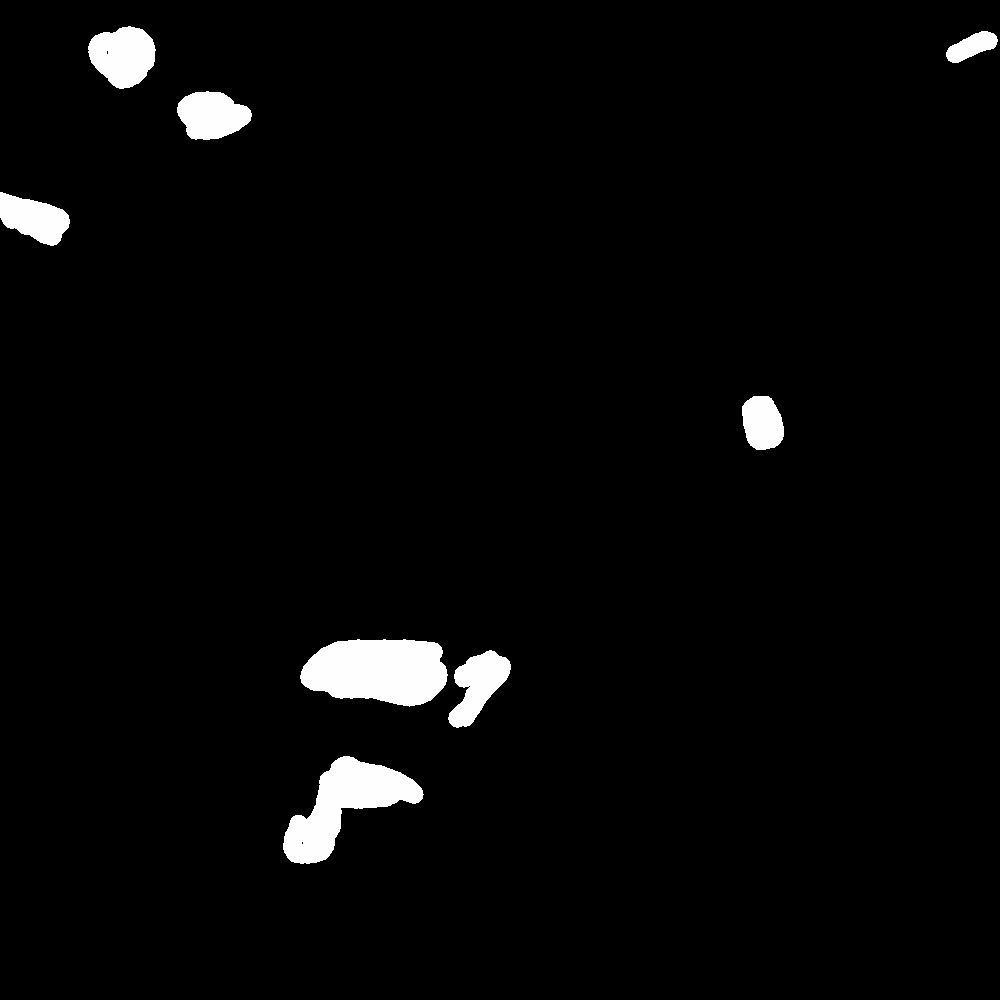illegal: (288, 756, 418, 929), (184, 88, 355, 169), (318, 646, 440, 705), (1, 188, 67, 229)
